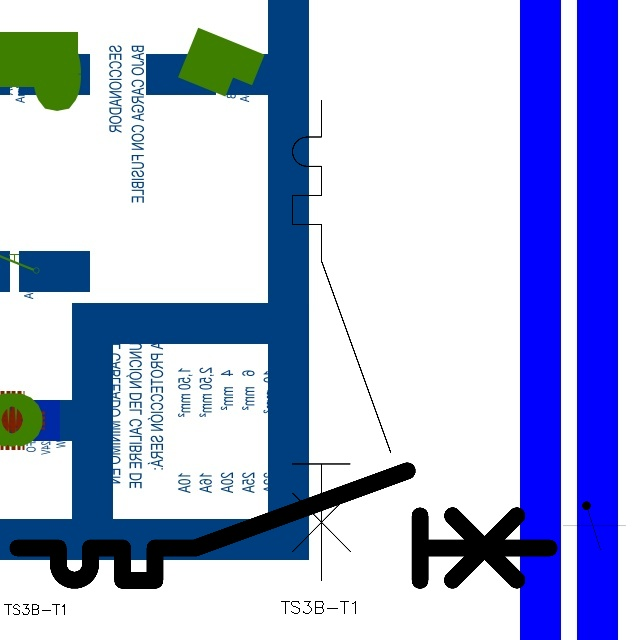interruptor_termomagnetico: (4, 457, 562, 594), (280, 88, 403, 593)
